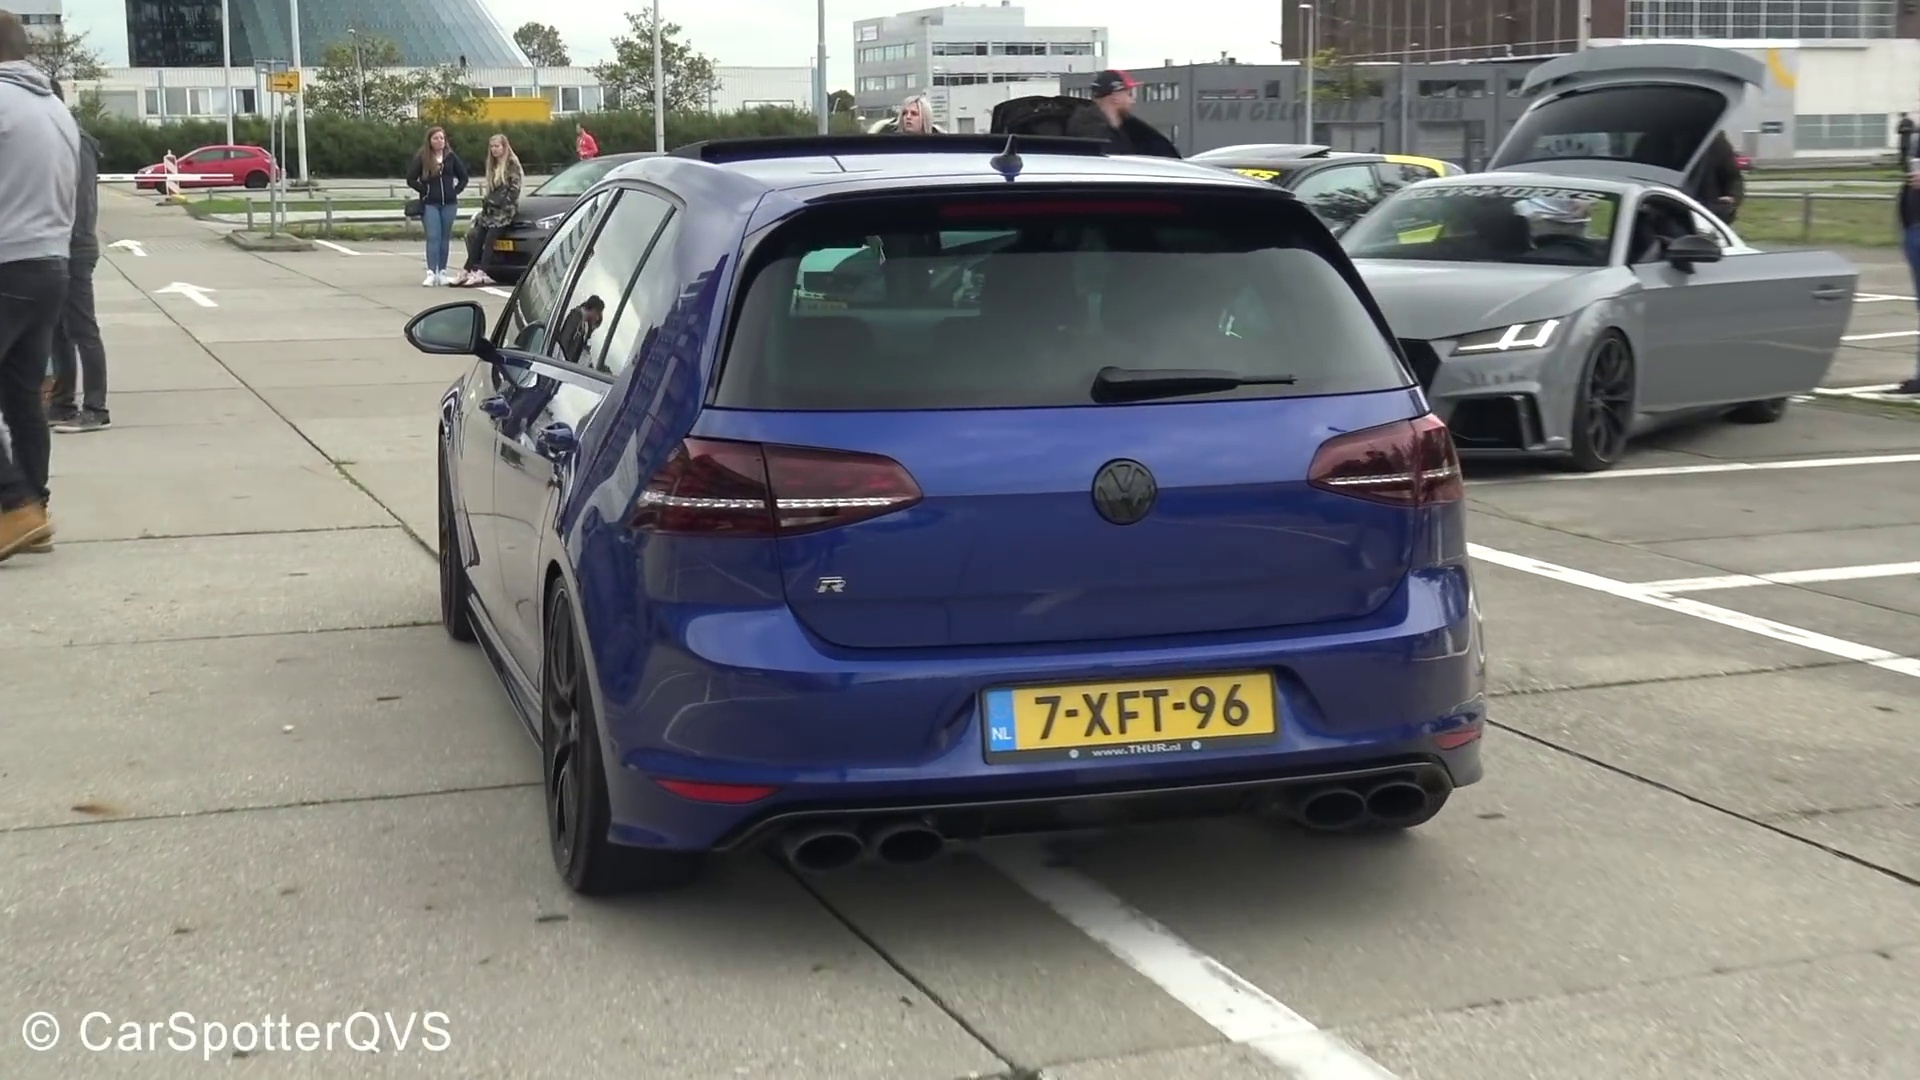num_plate: (976, 669, 1284, 754)
